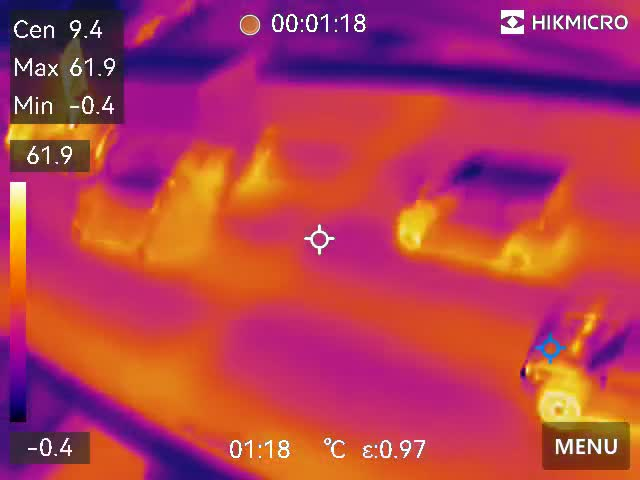smallCar: (413, 143, 584, 280)
